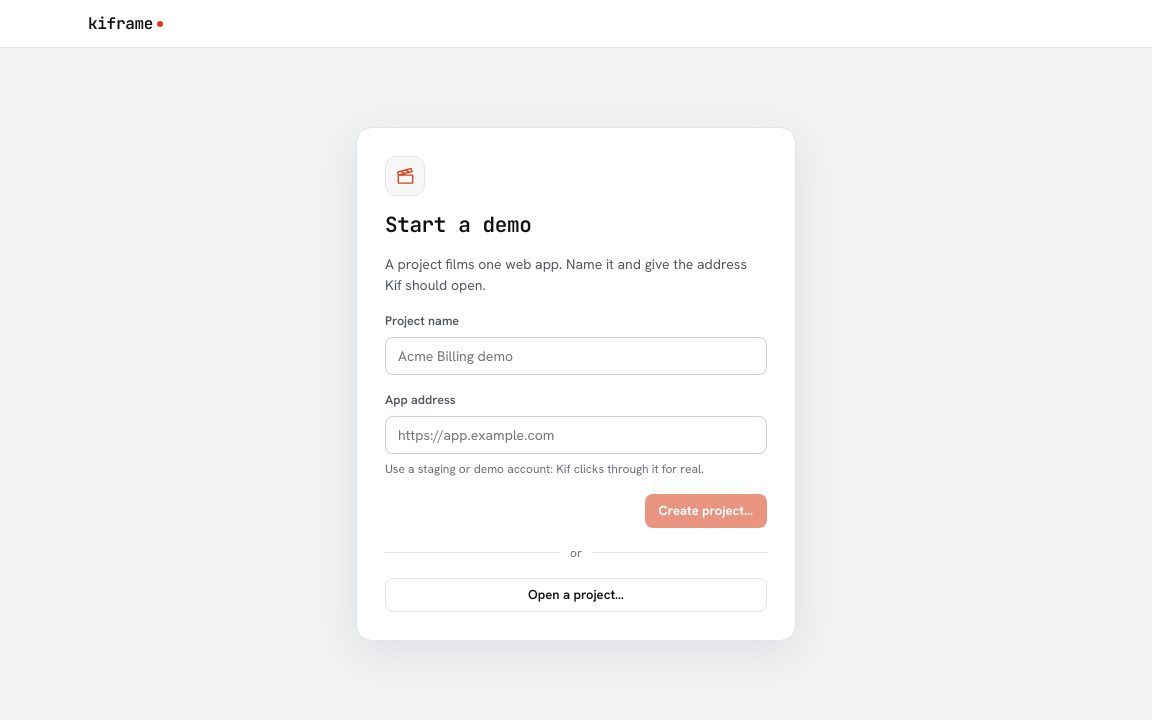
Scenario: the window › sends an address without a scheme to main (no browser check of its own)
The width and height of the screenshot is (1152, 720).
Type "Acme" into the field labelled "Project name". click: [576, 356]
box: [385,337,767,375]
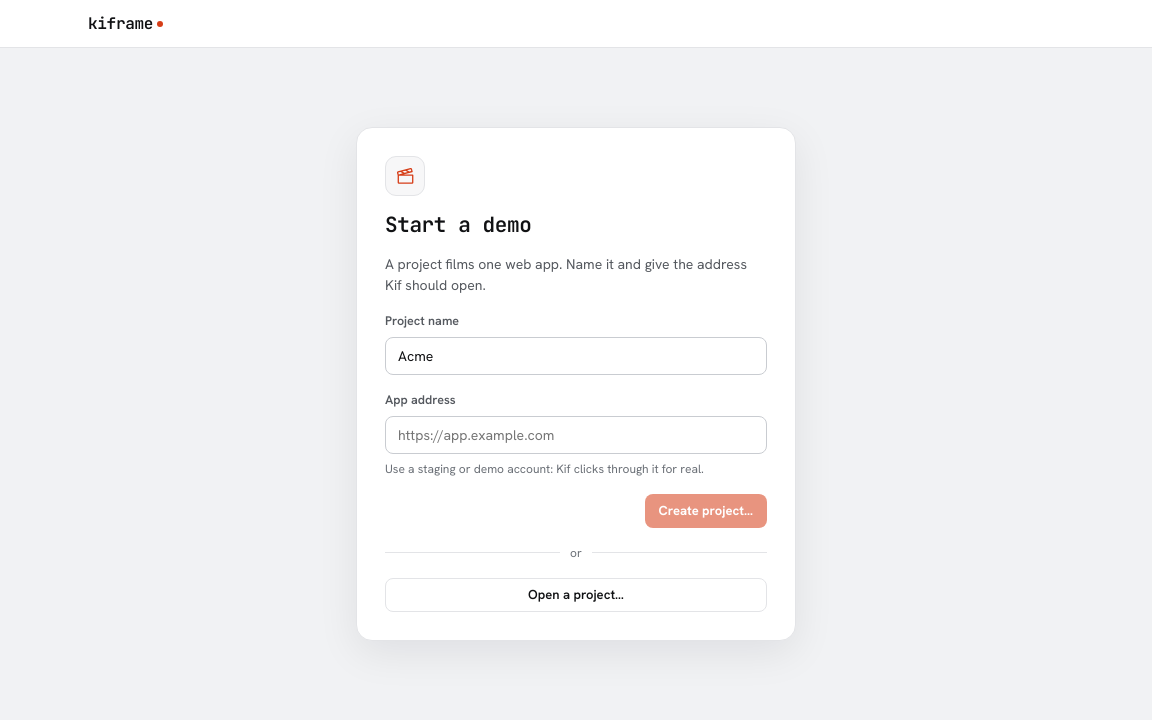
Type "app.acme.com" into the field labelled "App address". click: [576, 435]
box: [385,416,767,454]
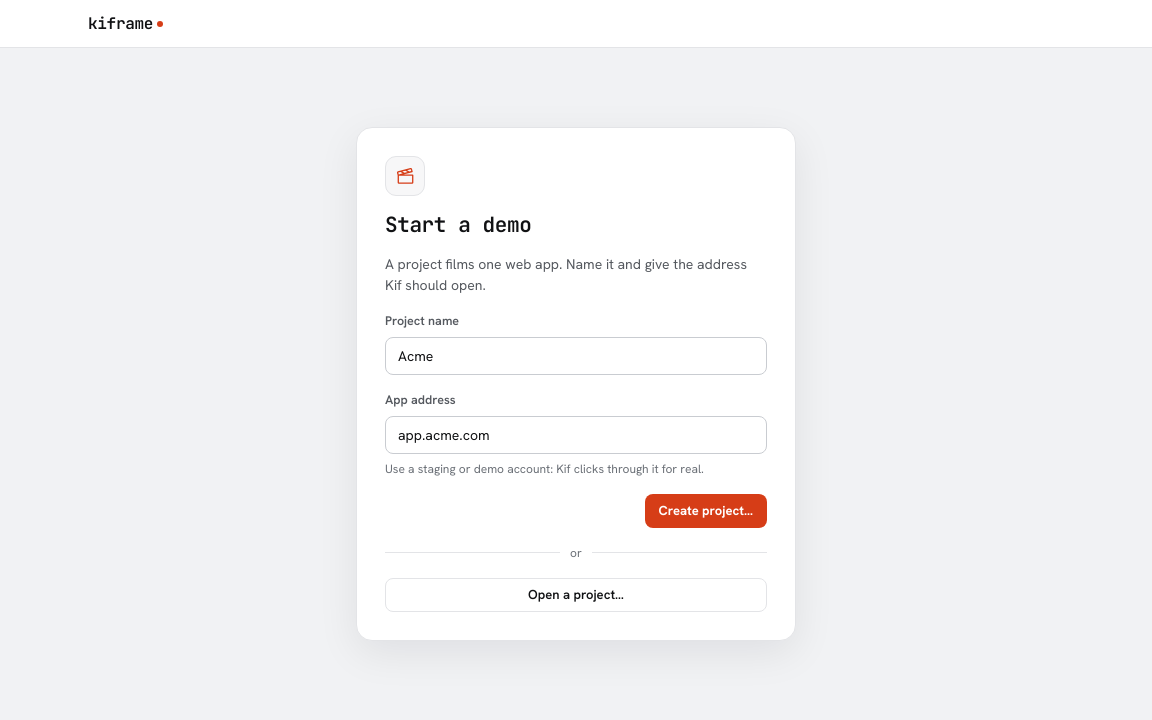
Click the button "Create project…". click: [706, 511]
box: [644,494,767,528]
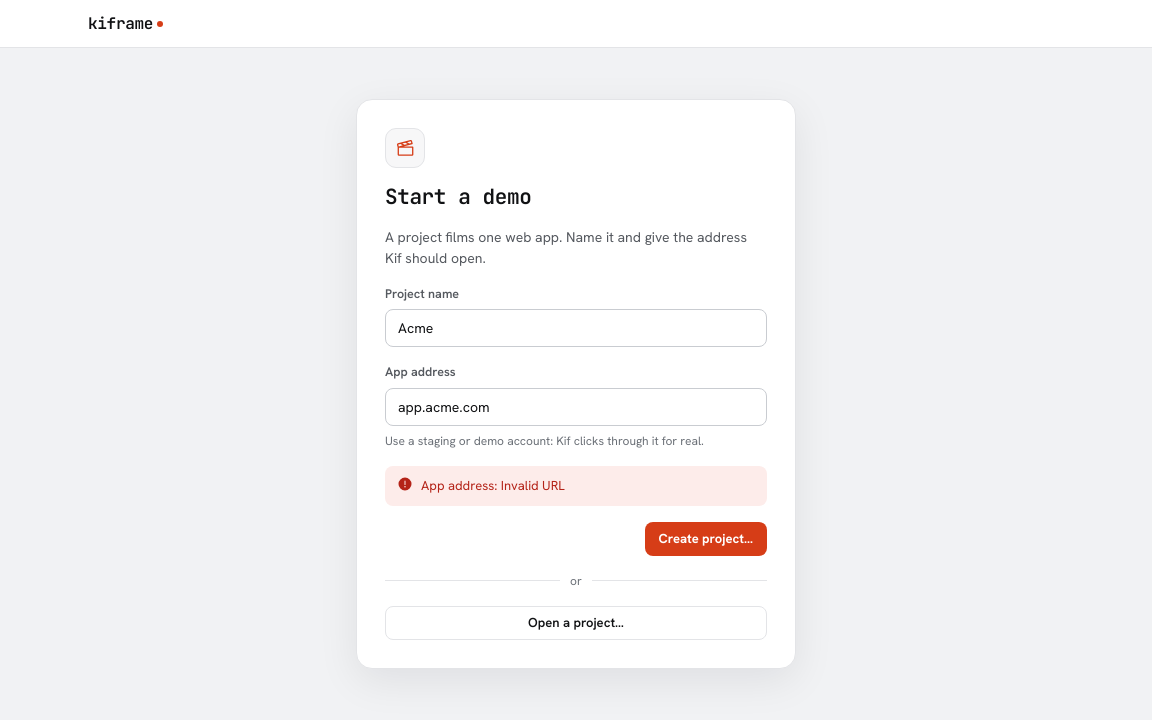
Expected: the message shows "App address", [421,477,565,494]
